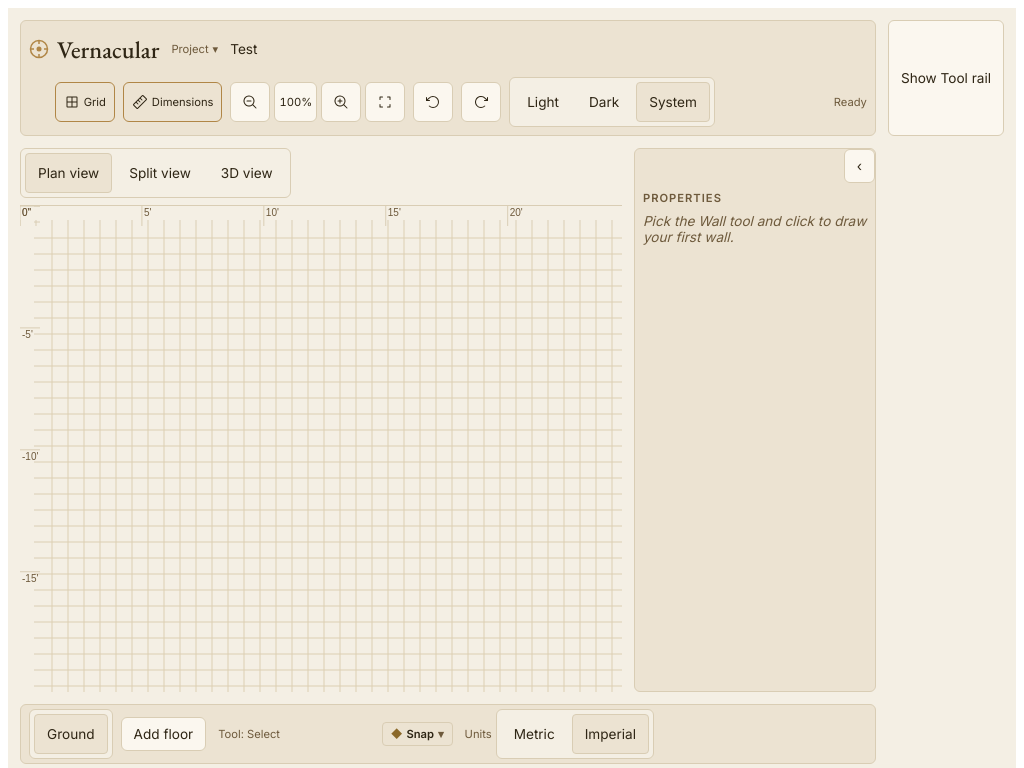
Test: EditorShell › shows the open-file menu item and a viewport drop target
Click the button "Project ▾". click: coordinates (195, 49)
box: 167,29 -> 222,69
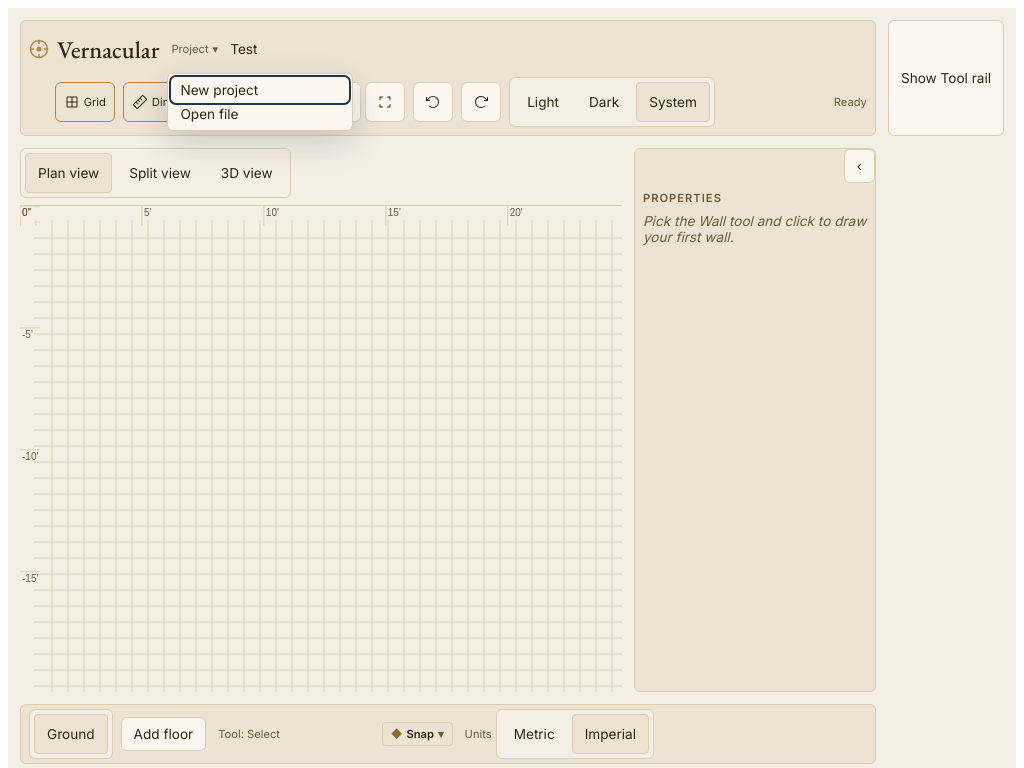
Check: the element with test id "import-drop-target" is shown, box 20,148 -> 622,692
Check: the menu item "Open file" is shown, box 172,102 -> 348,126
